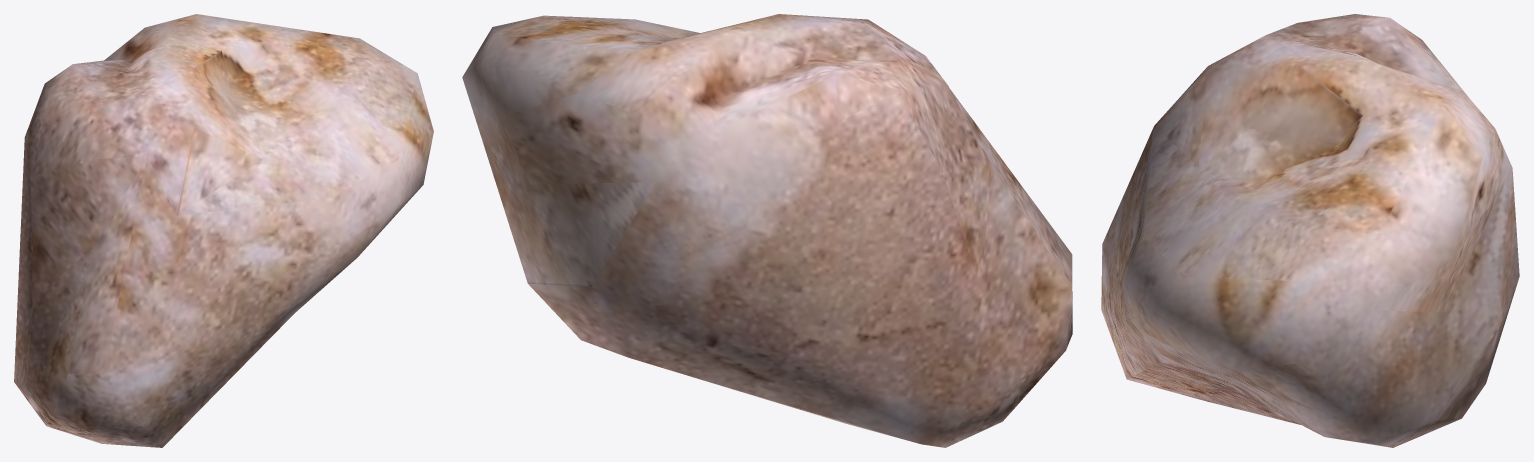
The picture shows the model from 3 angles, left to right: view 1: azimuth 30°, elevation 25°; view 2: azimuth 150°, elevation 25°; view 3: azimuth 270°, elevation 25°; orthographic projection. The views are drawn at different scales.
Parts seen in each view (by area): view 1: rock068_lod4; view 2: rock068_lod4; view 3: rock068_lod4.
Part boxes in pixels (x1,y1,x2,y2): rock068_lod4: (14,14,433,447); rock068_lod4: (462,14,1072,447); rock068_lod4: (1101,14,1519,447).
Size of the model in its own units: 1 by 0.7198 by 0.6856.
Materials: 1 (1 with a texture image).
